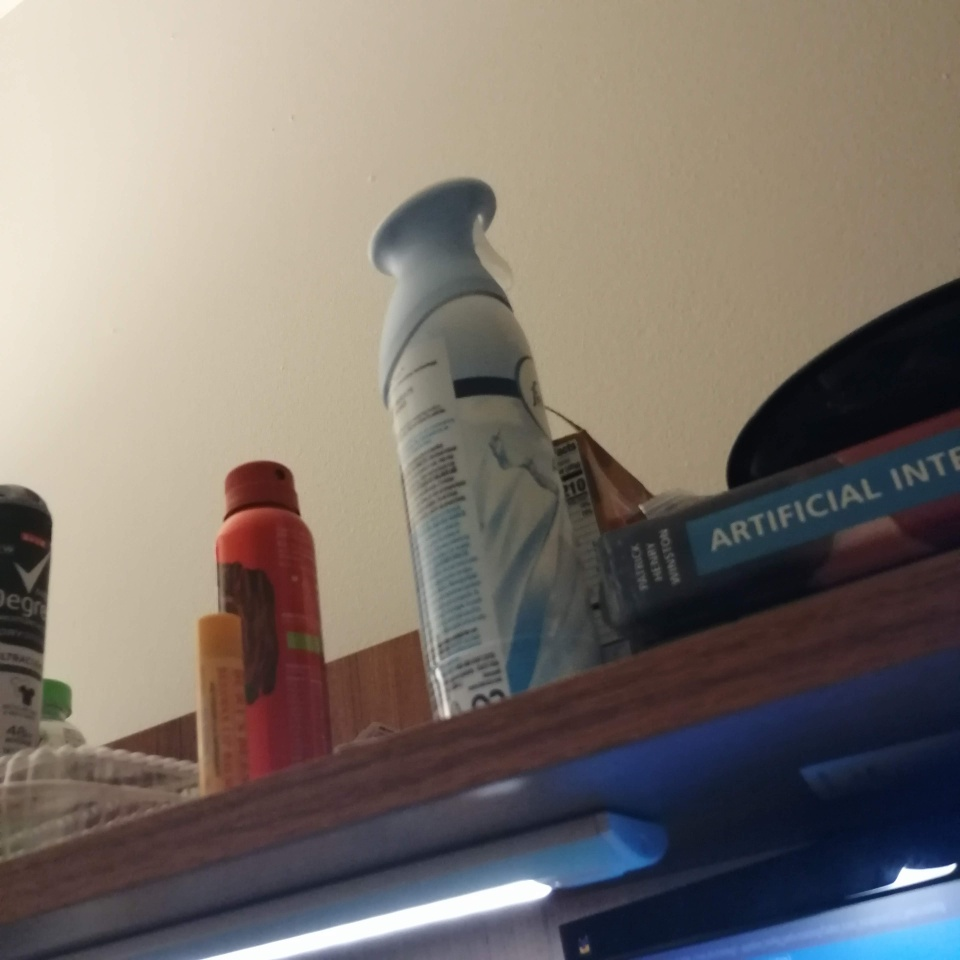chapstick: (194, 610, 250, 799)
